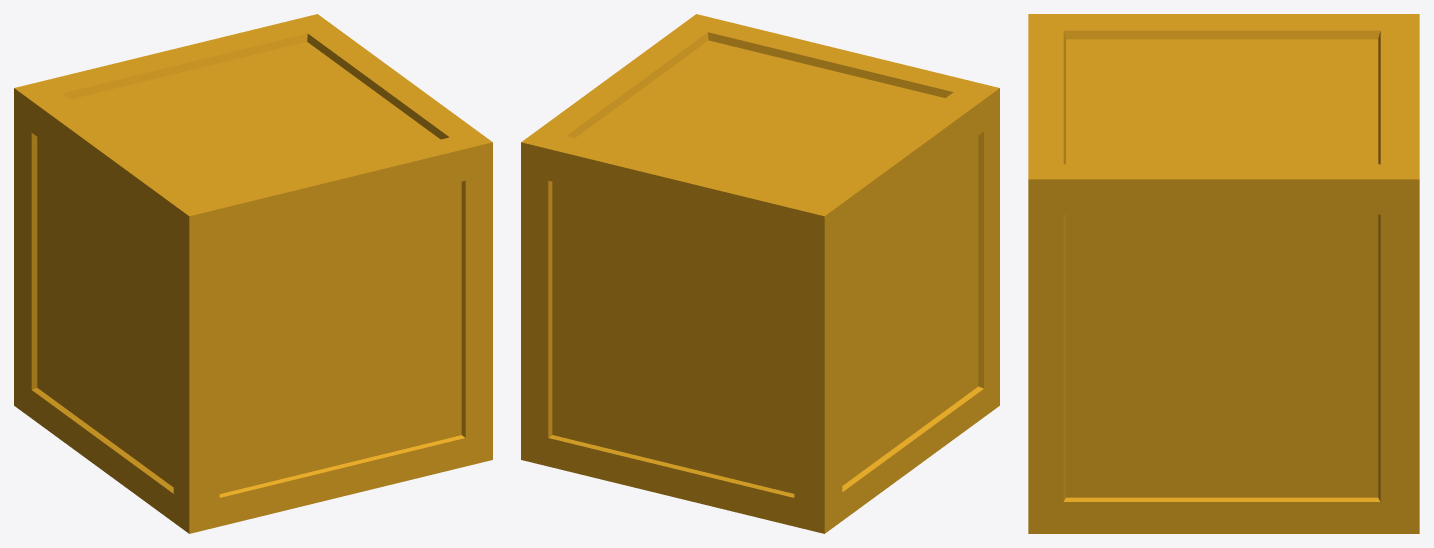
Rendered from crate 1.fbx.
The picture shows the model from 3 angles, left to right: view 1: azimuth 30°, elevation 25°; view 2: azimuth 150°, elevation 25°; view 3: azimuth 270°, elevation 25°; orthographic projection. The views are drawn at different scales.
Parts seen in each view (by area): view 1: Cube; view 2: Cube; view 3: Cube.
Part boxes in pixels (x1=…): Cube: x1=14, y1=14, x2=492, y2=533; Cube: x1=521, y1=14, x2=999, y2=533; Cube: x1=1028, y1=14, x2=1419, y2=533.
Size of the model in its own units: 200 by 200 by 200.
